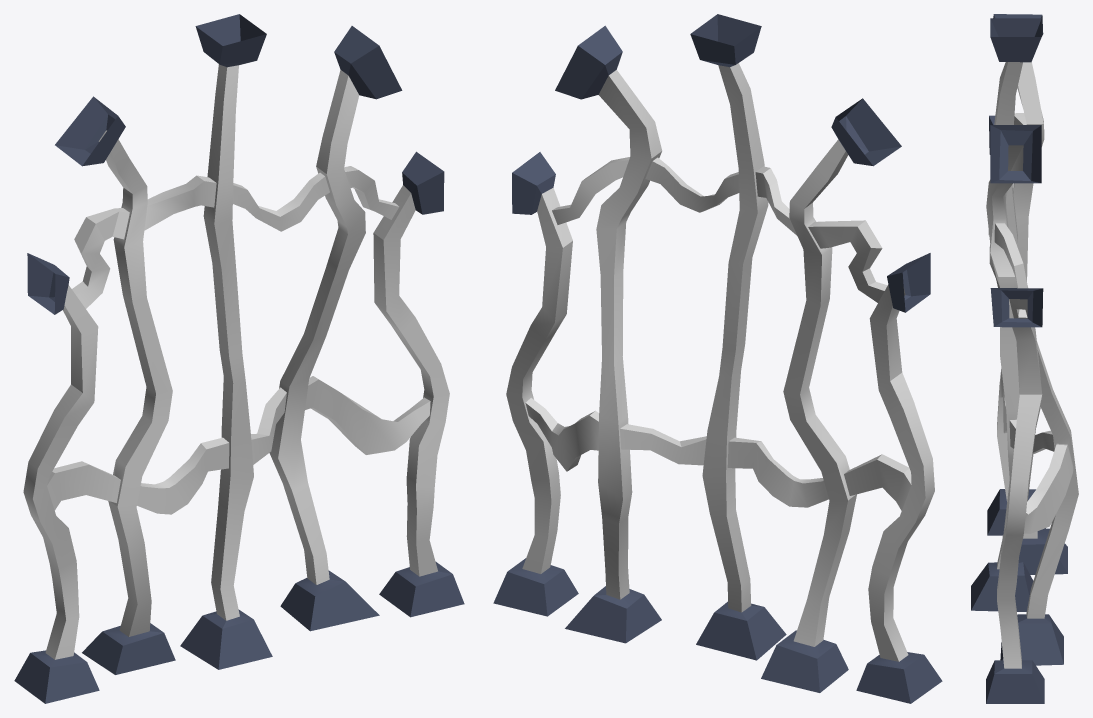
Rendered from Barreau.fbx.
The picture shows the model from 3 angles, left to right: view 1: azimuth 30°, elevation 25°; view 2: azimuth 150°, elevation 25°; view 3: azimuth 270°, elevation 25°; orthographic projection. The views are drawn at different scales.
Visible parts, largest first — view 1: Barreau_export; view 2: Barreau_export; view 3: Barreau_export.
Boxes of the visible parts, x1,y1,x2,y2 form: Barreau_export: (14,14,464,703); Barreau_export: (493,14,942,703); Barreau_export: (971,14,1078,703).
Size of the model in its own units: 388 by 543 by 91.87.
